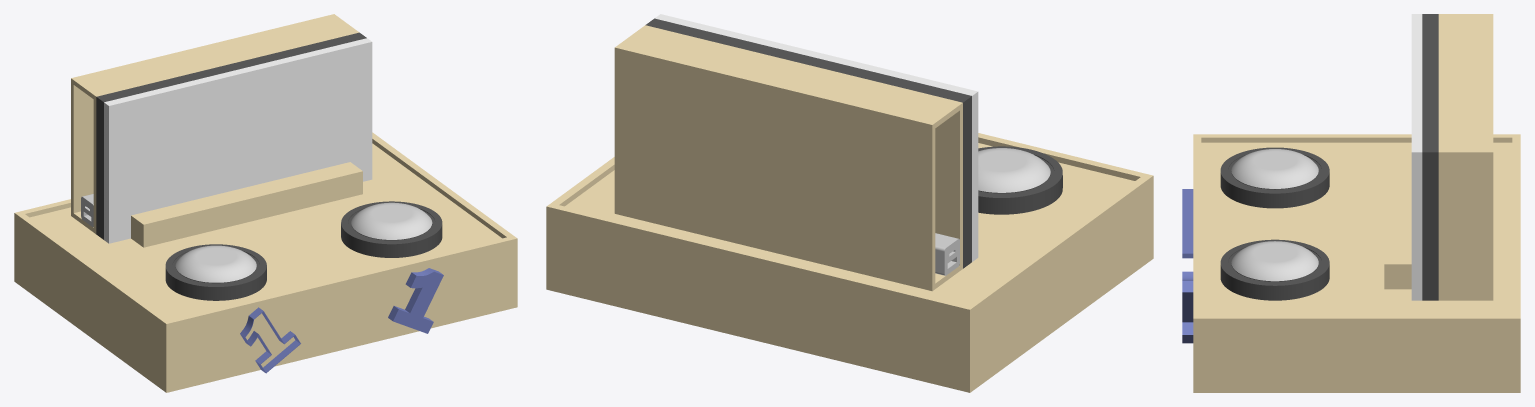
File: object-project-math.glb
3 renders of one model, left to right at view 1: azimuth 30°, elevation 25°; view 2: azimuth 150°, elevation 25°; view 3: azimuth 270°, elevation 25°, orthographic. The views are drawn at different scales.
Visible parts, largest first — view 1: Body1, Body14, Body9, Body6, Body8, Body2, Body4, Body3, Body5, Body15, Body16; view 2: Body1, Body9, Body8, Body14, Body3, Body2, Body10; view 3: Body1, Body9, Body8, Body6, Body14, Body2, Body4, Body5, Body3, Body15, Body16.
Part boxes in pixels (x1,y1,x2,y2): Body1: [14, 132, 517, 392]; Body14: [104, 38, 372, 243]; Body9: [71, 14, 359, 233]; Body6: [131, 162, 362, 247]; Body8: [96, 32, 366, 239]; Body2: [165, 244, 266, 300]; Body4: [341, 201, 442, 257]; Body3: [175, 245, 256, 282]; Body5: [351, 202, 432, 239]; Body15: [388, 268, 443, 333]; Body16: [240, 307, 300, 373]; Body1: [546, 133, 1153, 392]; Body9: [614, 25, 962, 291]; Body8: [645, 18, 971, 268]; Body14: [655, 14, 978, 261]; Body3: [978, 148, 1050, 192]; Body2: [978, 146, 1062, 214]; Body10: [935, 233, 959, 275]; Body1: [1193, 134, 1520, 392]; Body9: [1438, 14, 1493, 300]; Body8: [1422, 14, 1438, 300]; Body6: [1384, 149, 1411, 289]; Body14: [1411, 14, 1422, 300]; Body2: [1220, 147, 1329, 208]; Body4: [1220, 239, 1329, 300]; Body5: [1231, 241, 1318, 281]; Body3: [1231, 149, 1318, 188]; Body15: [1182, 271, 1193, 343]; Body16: [1182, 189, 1193, 258].
Size of the model in its own units: 2.23 by 1.23 by 1.73.
